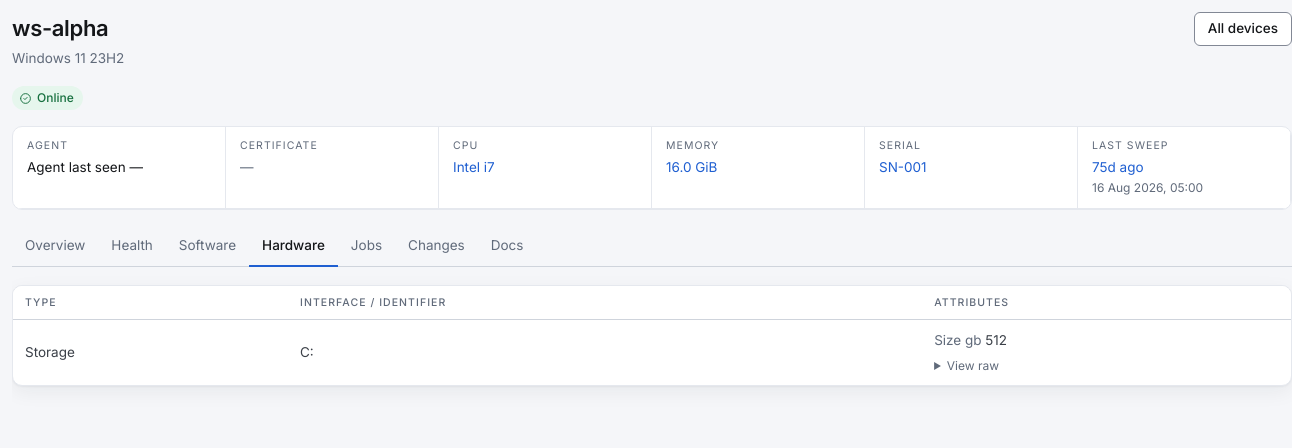
times are read in the profile's zone › does not move an install DATE into the previous day
Expected: the heading "ws-alpha" is shown, [12,12,124,45]
Click the tab "Software": (207, 246) [166,226,249,267]
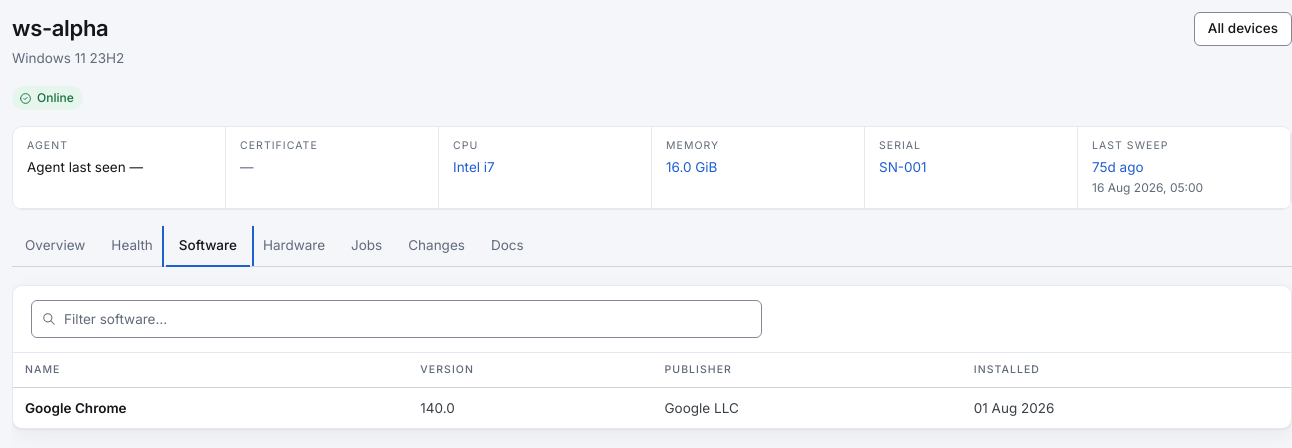
Expected: the text "01 Aug 2026" is shown, [962,387,1291,428]
